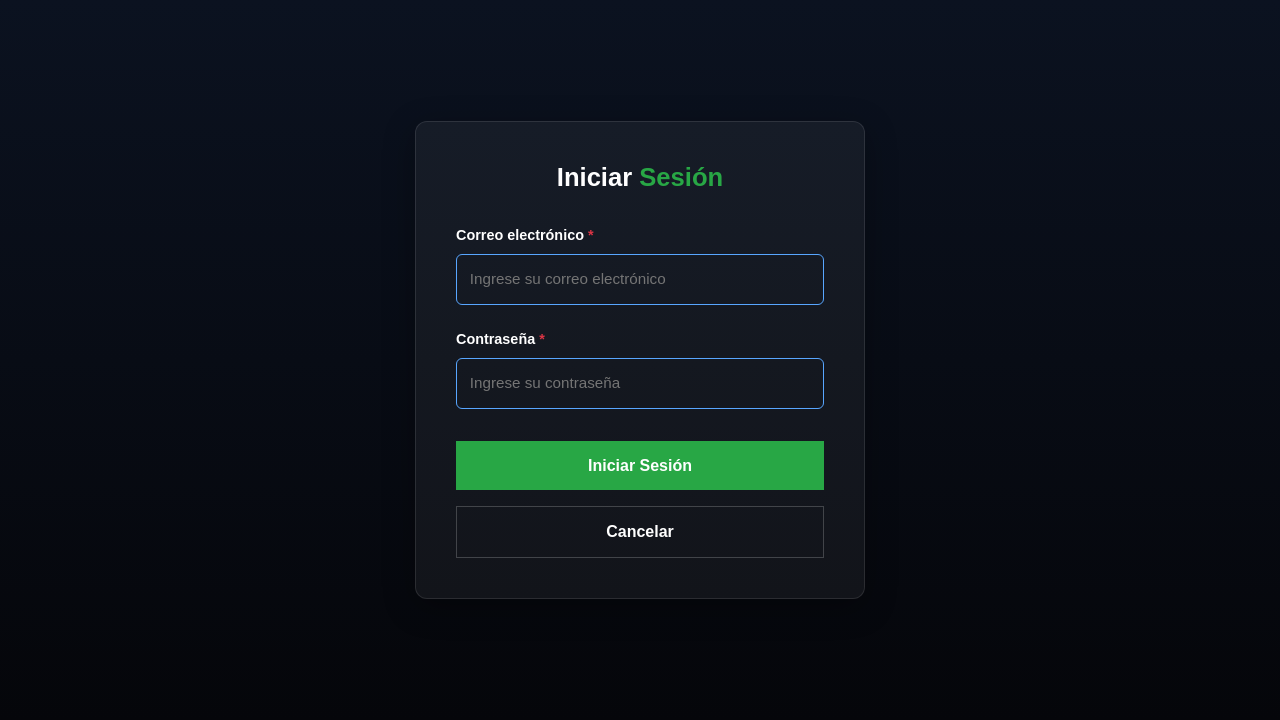
DT_02 - Inicio de sesion en la plataforma › DT_02_3: Si el correo no esta registrado, no se inicia sesion y se pide otro correo
expect the form is shown: met, box top-left (456, 225), bottom-right (824, 558)
Type "noexiste@devtest.com" into the field with id "correo".
click(640, 279); type("noexiste@devtest.com")  # box top-left (456, 254), bottom-right (824, 304)
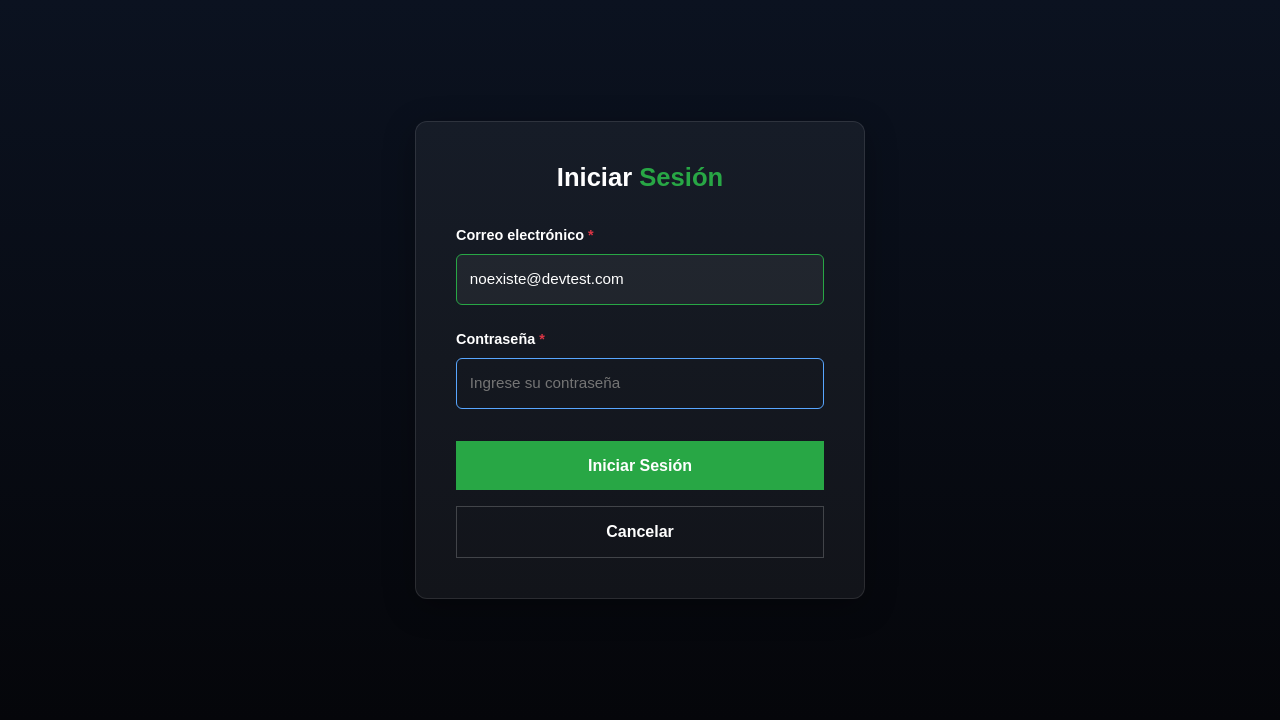
Type "Password123" into the password field with id "contrasena".
click(640, 383); type("Password123")  # box top-left (456, 358), bottom-right (824, 408)
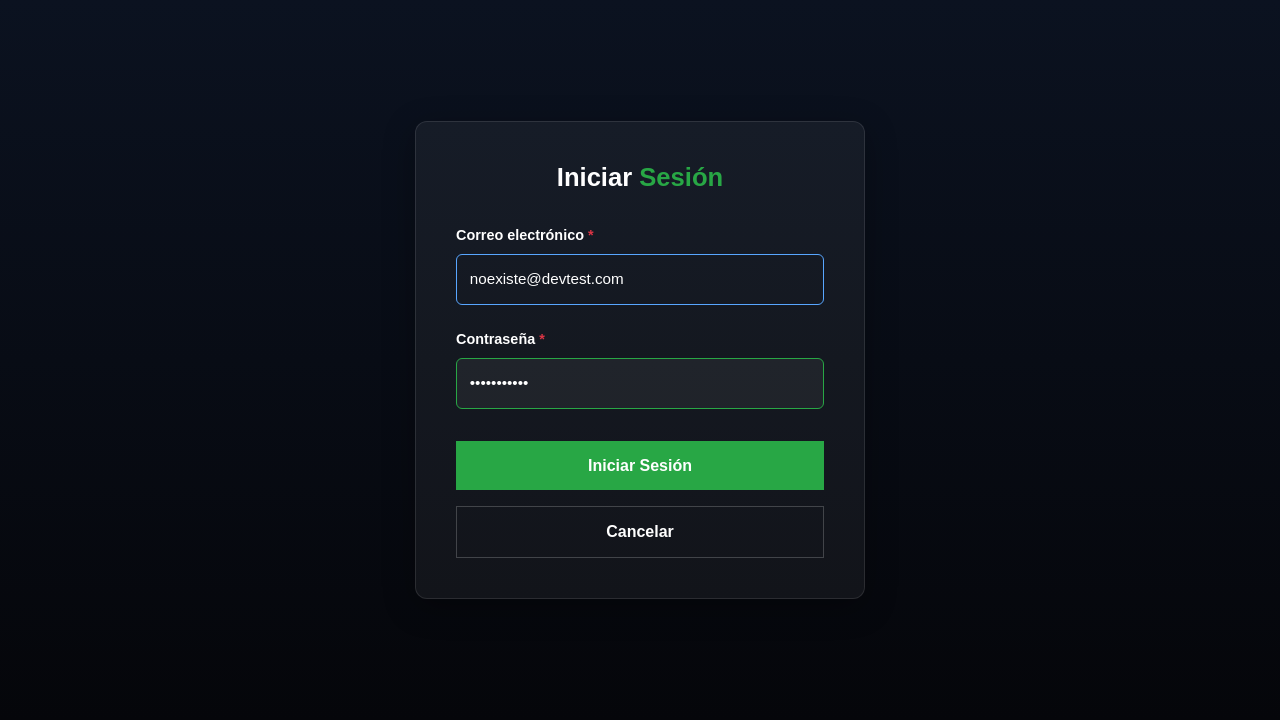
Click the button "Iniciar Sesión".
click(640, 466)  # box top-left (456, 441), bottom-right (824, 491)
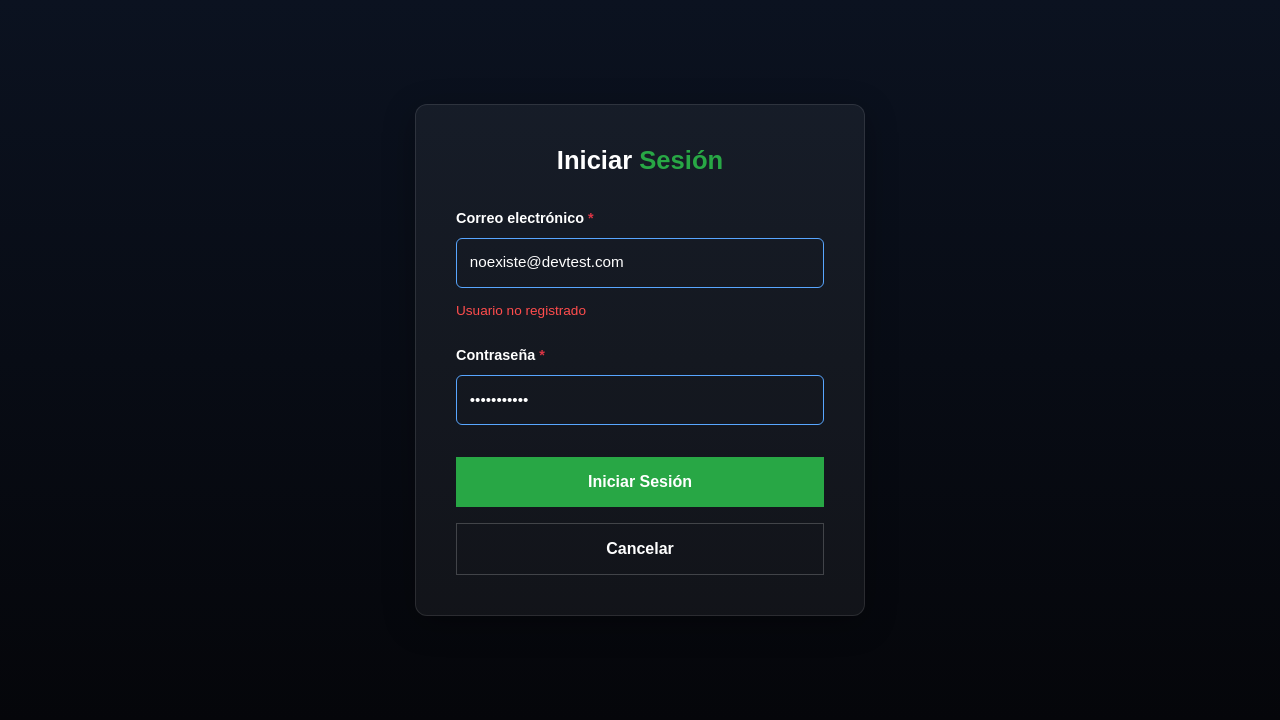
expect the text "Usuario no registrado" is shown: met, box top-left (456, 303), bottom-right (586, 318)
